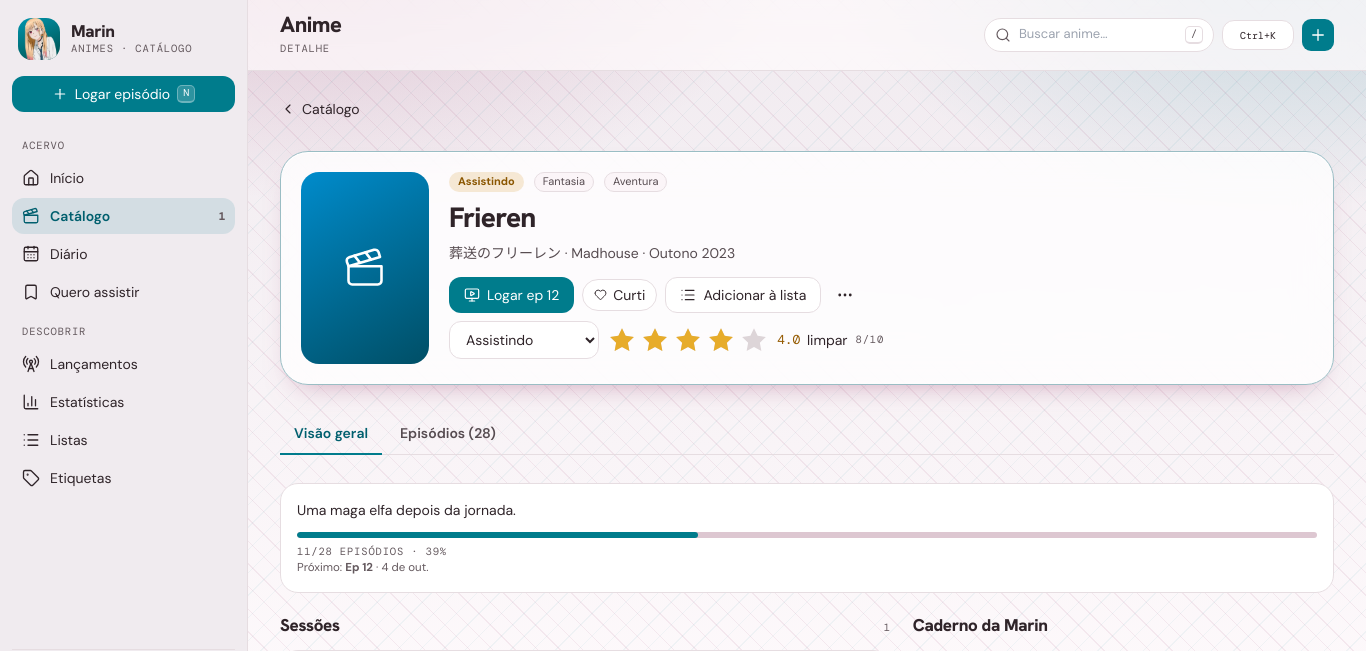
Test case: detalhe do anime › a data do episódio é o dia exato, sem o dia a menos do fuso
The image size is (1366, 651).
Click the tab "Episódios (28)" at (448, 434), box [386,413,510,455]
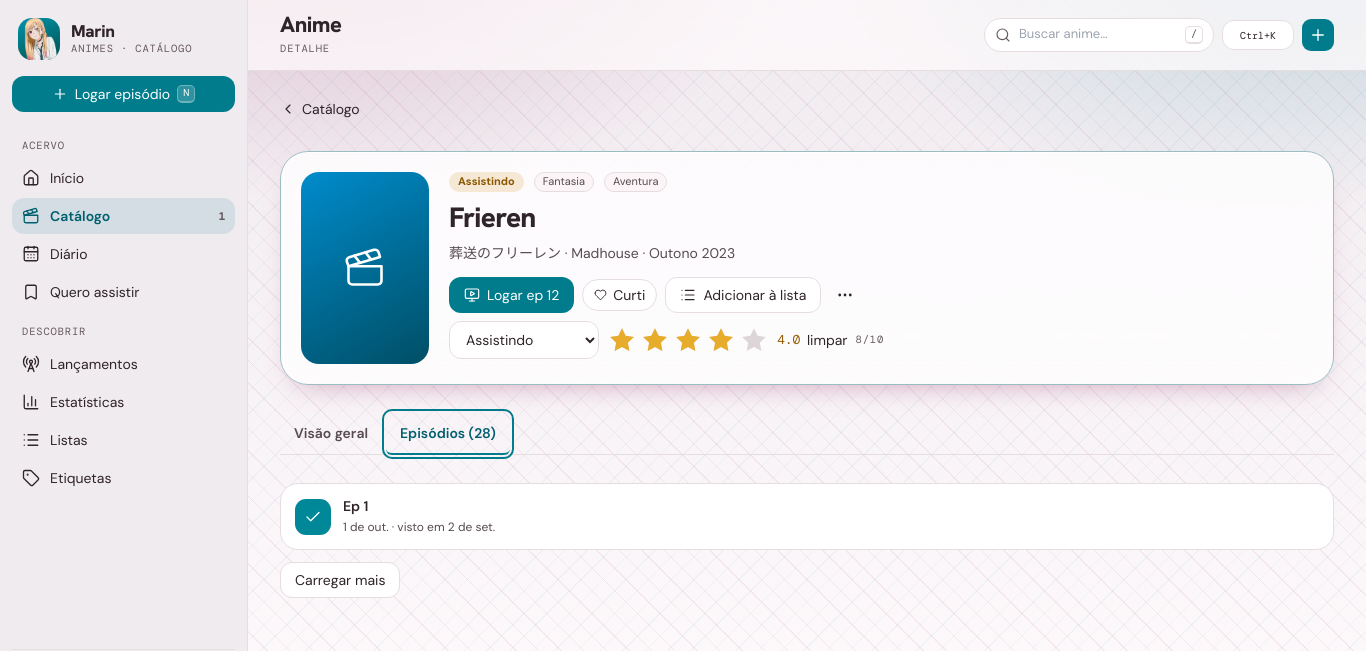
Expected: the text "1 de out. · visto em 2 de set." is shown, [343,520,495,536]
